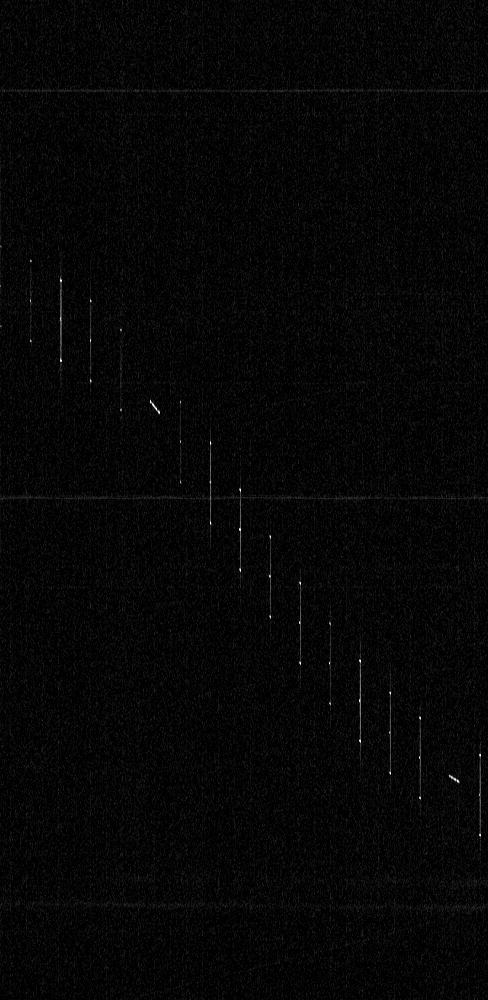signal: (0, 0, 487, 999)
